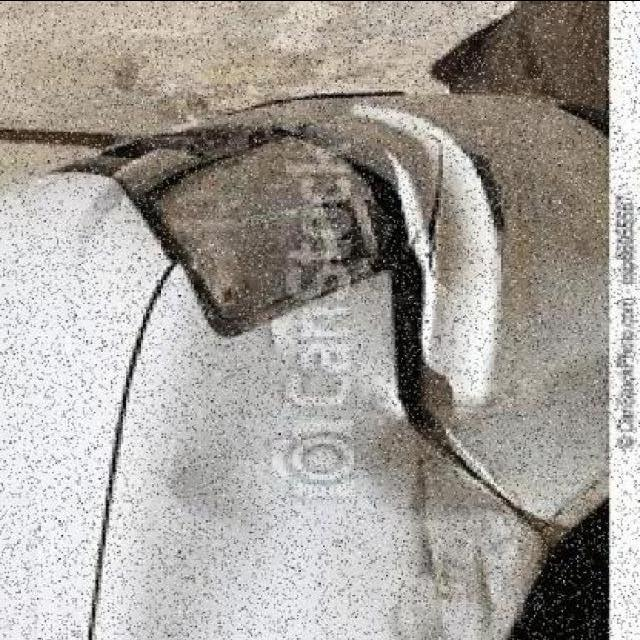fender-dent: (103, 285, 543, 640)
front-bumper-dent: (360, 91, 619, 527)
